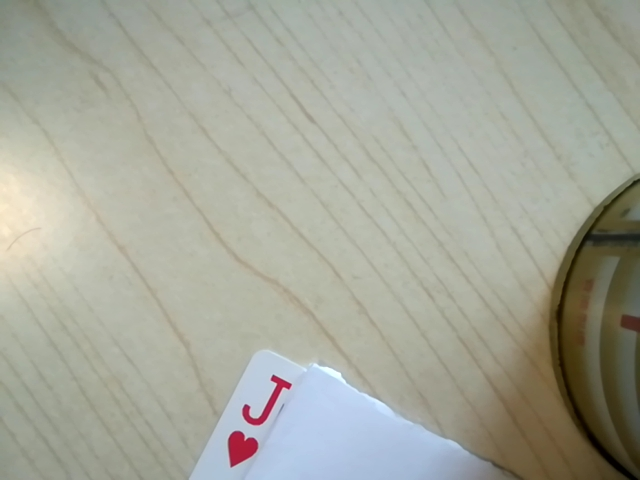hx j: (219, 371, 292, 472)
